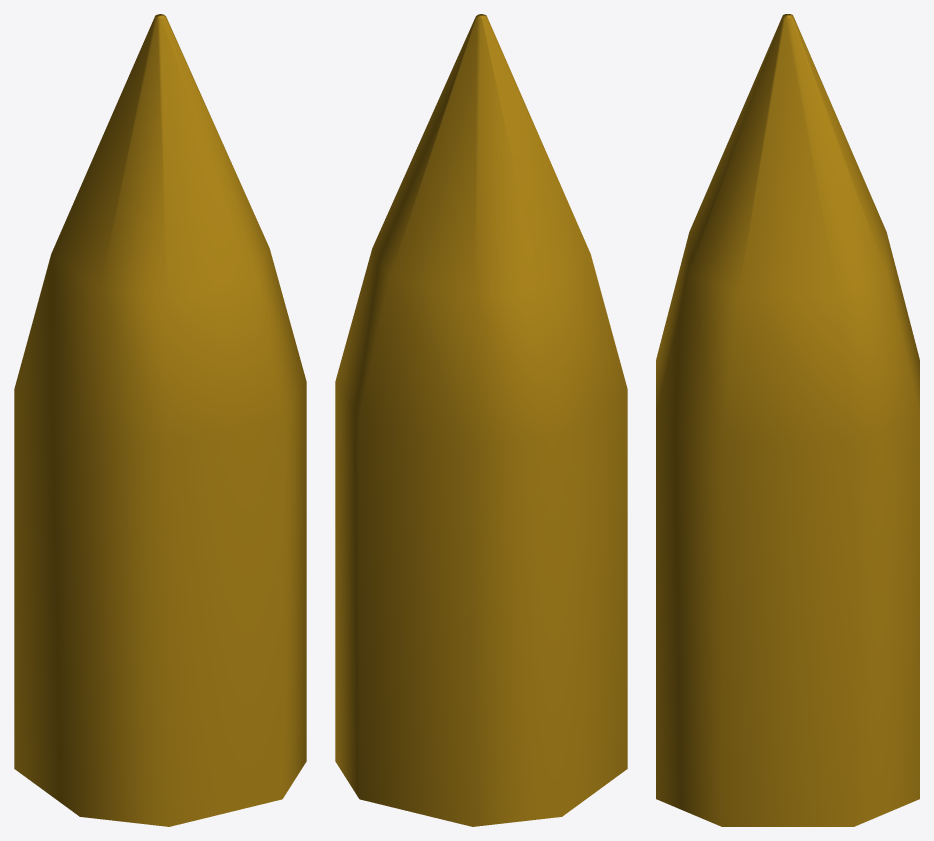
The model's file is Bullet_Rifle.fbx.
3 views of the same model, side by side, from view 1: azimuth 30°, elevation 25°; view 2: azimuth 150°, elevation 25°; view 3: azimuth 270°, elevation 25° (orthographic).
Parts seen in each view (by area): view 1: pPlane1; view 2: pPlane1; view 3: pPlane1.
Boxes of the visible parts, <box> form: pPlane1: <box>14,14,306,826</box>; pPlane1: <box>335,14,627,826</box>; pPlane1: <box>656,14,919,826</box>.
Bounding box in the file's own units: 1 × 3.16 × 1.
